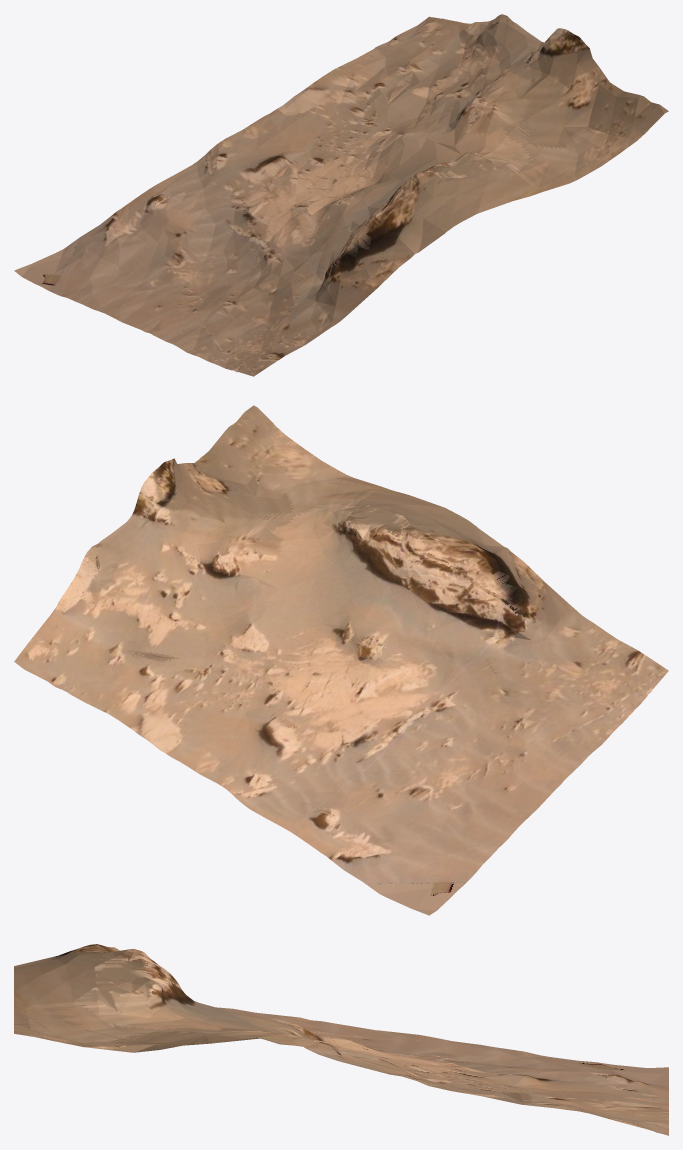
The picture shows the model from 3 angles, top to bottom: view 1: azimuth 30°, elevation 25°; view 2: azimuth 150°, elevation 25°; view 3: azimuth 270°, elevation 25°; orthographic projection. The views are drawn at different scales.
Bounding box in the file's own units: 1.04 × 0.5837 × 1.04.
3 materials, 3 textured.
